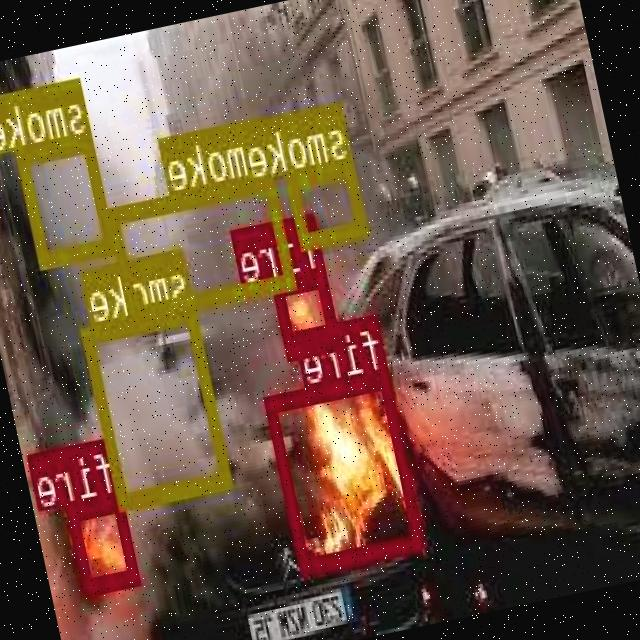fire: (266, 368, 428, 572), (66, 492, 142, 590), (274, 266, 344, 356)
smoke: (83, 304, 232, 505), (108, 171, 297, 319), (16, 132, 117, 264), (288, 156, 370, 245)
